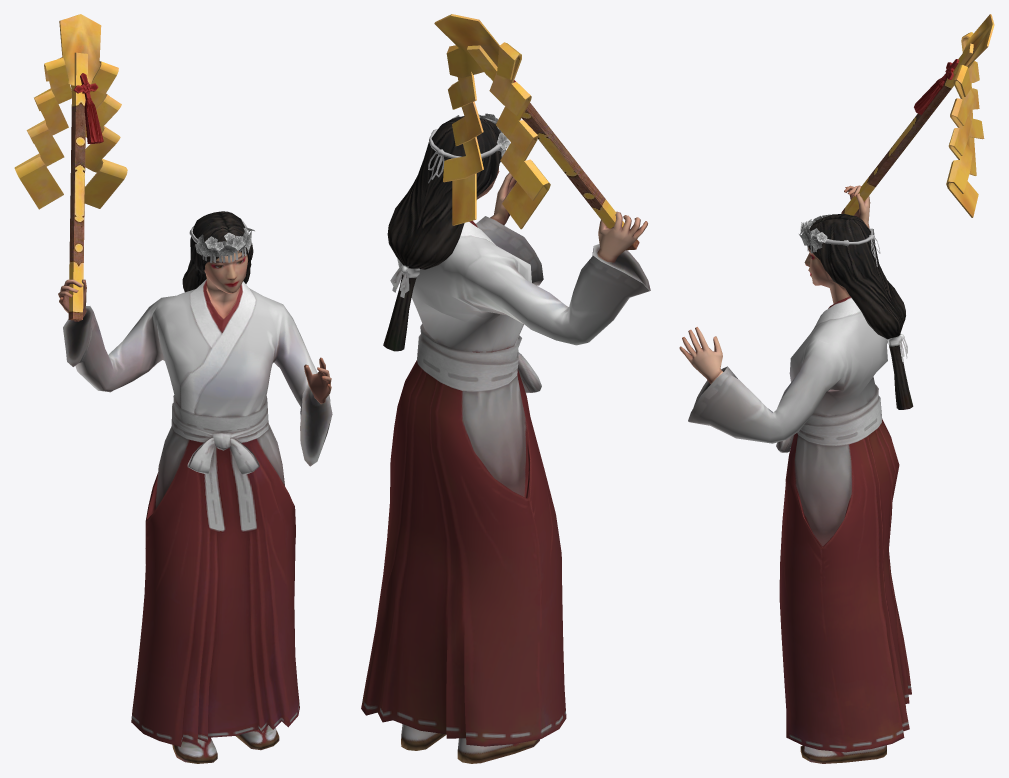
The model's file is 176-miko.glb.
3 renders of one model, left to right at view 1: azimuth 30°, elevation 25°; view 2: azimuth 150°, elevation 25°; view 3: azimuth 270°, elevation 25°, orthographic. The views are drawn at different scales.
Bounding box in the file's own units: 0.9676 × 2.72 × 1.13.
2 materials, 2 textured.
